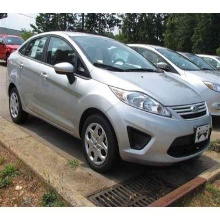no damage: (6, 31, 213, 171)
